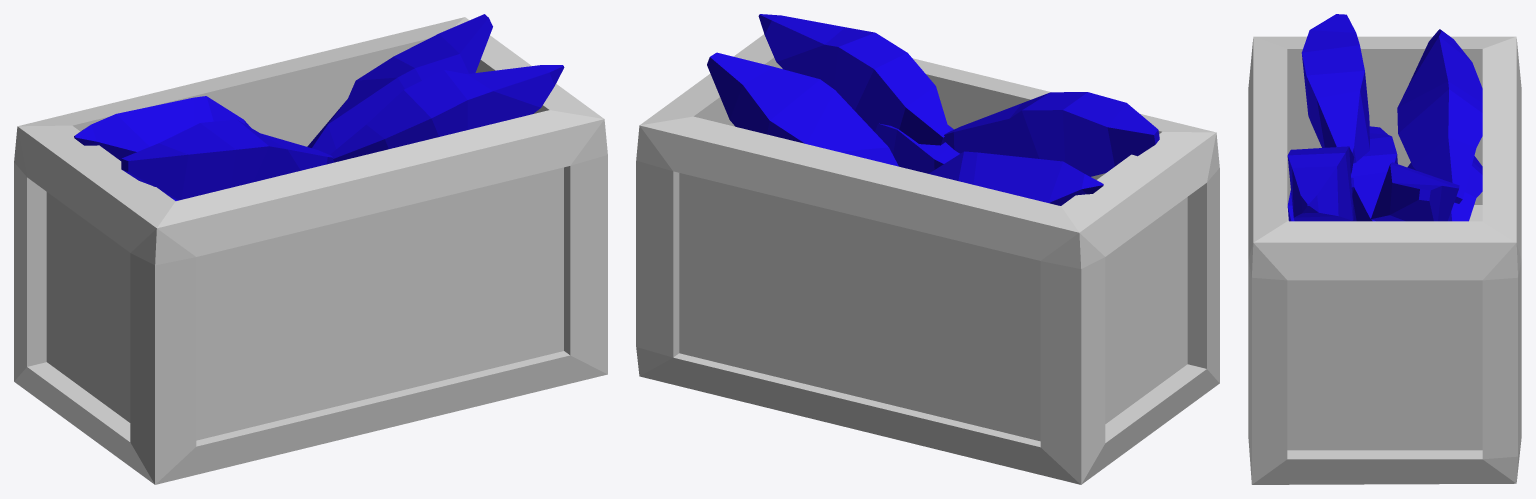
Rendered from caja con cristales 2 Baja.fbx.
3 views of the same model, side by side, from view 1: azimuth 30°, elevation 25°; view 2: azimuth 150°, elevation 25°; view 3: azimuth 270°, elevation 25° (orthographic). The views are drawn at different scales.
Parts seen in each view (by area): view 1: caja_2_Cristales_Baja; view 2: caja_2_Cristales_Baja; view 3: caja_2_Cristales_Baja.
Boxes of the visible parts, bbox=[...] form: caja_2_Cristales_Baja: bbox=[14, 14, 607, 484]; caja_2_Cristales_Baja: bbox=[636, 14, 1219, 484]; caja_2_Cristales_Baja: bbox=[1248, 14, 1521, 484].
Bounding box in the file's own units: 712 × 438 × 384.
